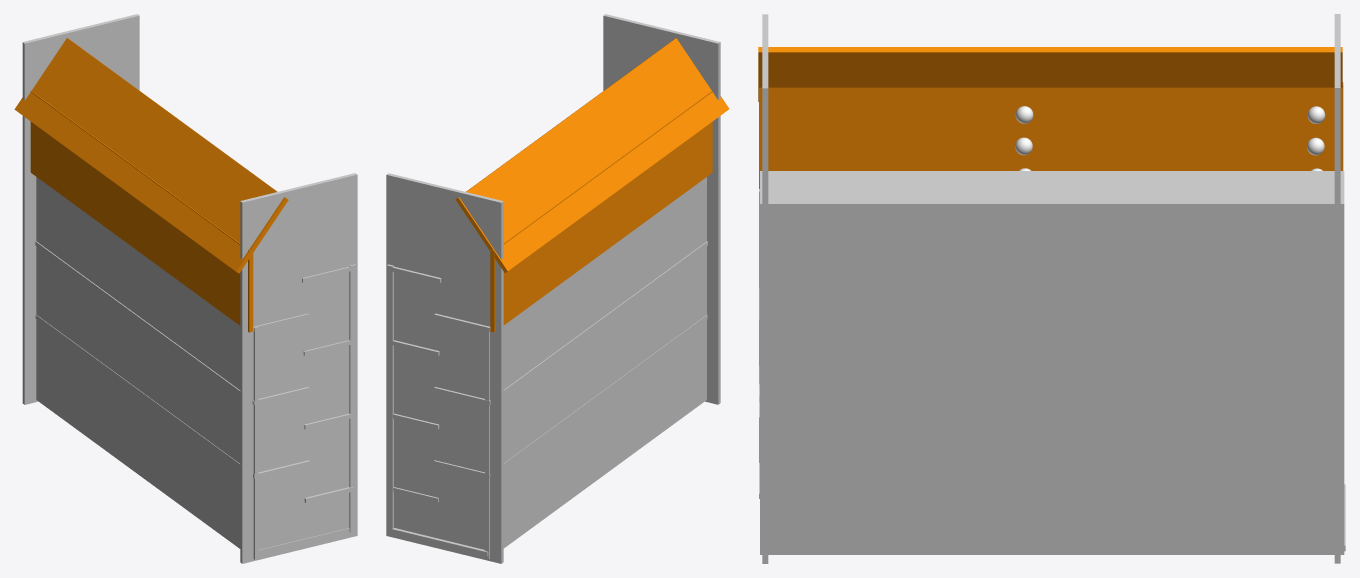
File: multibounce_gi_test_scene.gltf
3 renders of one model, left to right at view 1: azimuth 30°, elevation 25°; view 2: azimuth 150°, elevation 25°; view 3: azimuth 270°, elevation 25°, orthographic. The views are drawn at different scales.
Parts seen in each view (by area): view 1: StaticMeshActor_8, StaticMeshActor_24, StaticMeshActor_15, StaticMeshActor_10, StaticMeshActor_11, StaticMeshActor_5, StaticMeshActor_16, StaticMeshActor_23, StaticMeshActor_4; view 2: StaticMeshActor_8, StaticMeshActor_11, StaticMeshActor_15, StaticMeshActor_10, StaticMeshActor_24, StaticMeshActor_5, StaticMeshActor_16, StaticMeshActor_23, StaticMeshActor_4; view 3: StaticMeshActor_5, StaticMeshActor_10, StaticMeshActor_15, StaticMeshActor_9, StaticMeshActor_11, StaticMeshActor_24.
Boxes of the visible parts, x1,y1,x2,y2 form: StaticMeshActor_8: [36, 177, 258, 559]; StaticMeshActor_24: [240, 173, 357, 563]; StaticMeshActor_15: [14, 38, 288, 273]; StaticMeshActor_10: [30, 91, 253, 332]; StaticMeshActor_11: [22, 14, 139, 404]; StaticMeshActor_5: [349, 264, 355, 532]; StaticMeshActor_16: [35, 241, 309, 404]; StaticMeshActor_23: [35, 314, 309, 478]; StaticMeshActor_4: [258, 528, 349, 554]; StaticMeshActor_8: [485, 177, 706, 559]; StaticMeshActor_11: [386, 173, 503, 563]; StaticMeshActor_15: [455, 38, 729, 272]; StaticMeshActor_10: [490, 91, 712, 332]; StaticMeshActor_24: [603, 14, 720, 404]; StaticMeshActor_5: [387, 264, 393, 532]; StaticMeshActor_16: [434, 241, 707, 405]; StaticMeshActor_23: [434, 314, 707, 478]; StaticMeshActor_4: [392, 528, 488, 556]; StaticMeshActor_5: [760, 200, 1344, 554]; StaticMeshActor_10: [759, 82, 1343, 188]; StaticMeshActor_15: [758, 47, 1342, 101]; StaticMeshActor_9: [760, 171, 1344, 200]; StaticMeshActor_11: [1334, 14, 1340, 563]; StaticMeshActor_24: [762, 14, 768, 563].
Bounding box in the file's own units: 31.46 × 88.5 × 98.96.
